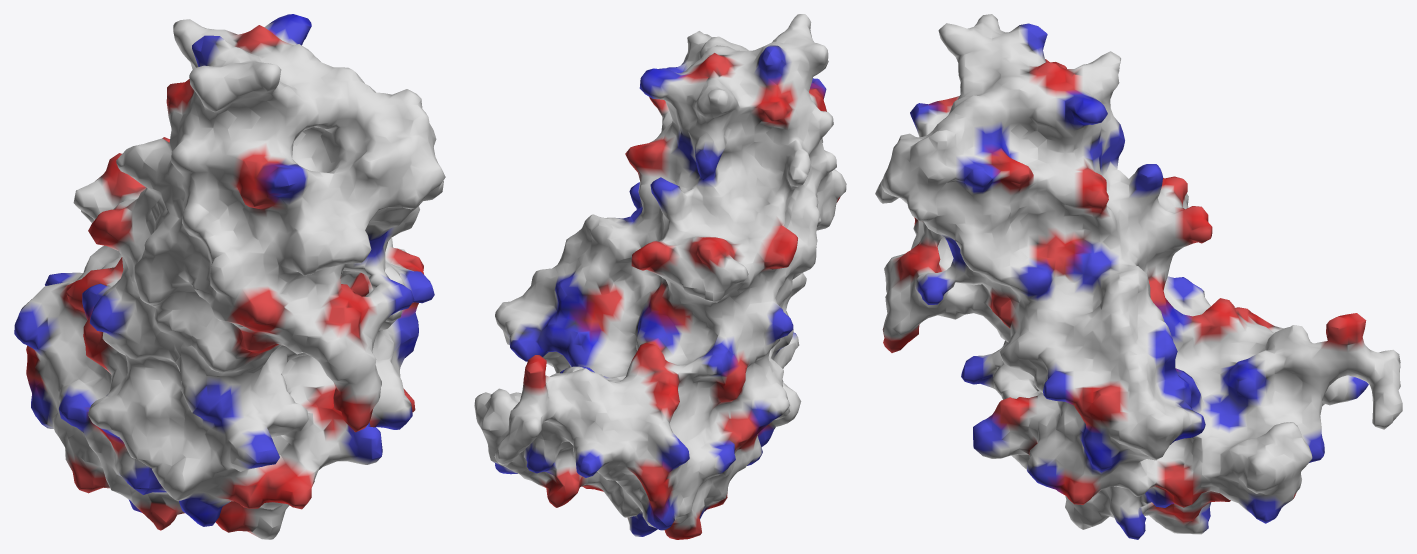
Rendered from 1EMV_A-Z_1.0.fbx.
3 renders of one model, left to right at view 1: azimuth 30°, elevation 25°; view 2: azimuth 150°, elevation 25°; view 3: azimuth 270°, elevation 25°, orthographic. The views are drawn at different scales.
Parts seen in each view (by area): view 1: Cube; view 2: Cube; view 3: Cube.
Boxes of the visible parts, left/top/right/bottom form: Cube: left=14, top=14, right=445, bottom=539; Cube: left=474, top=14, right=846, bottom=539; Cube: left=875, top=14, right=1402, bottom=539.
Size of the model in its own units: 3745 by 5857 by 5784.
